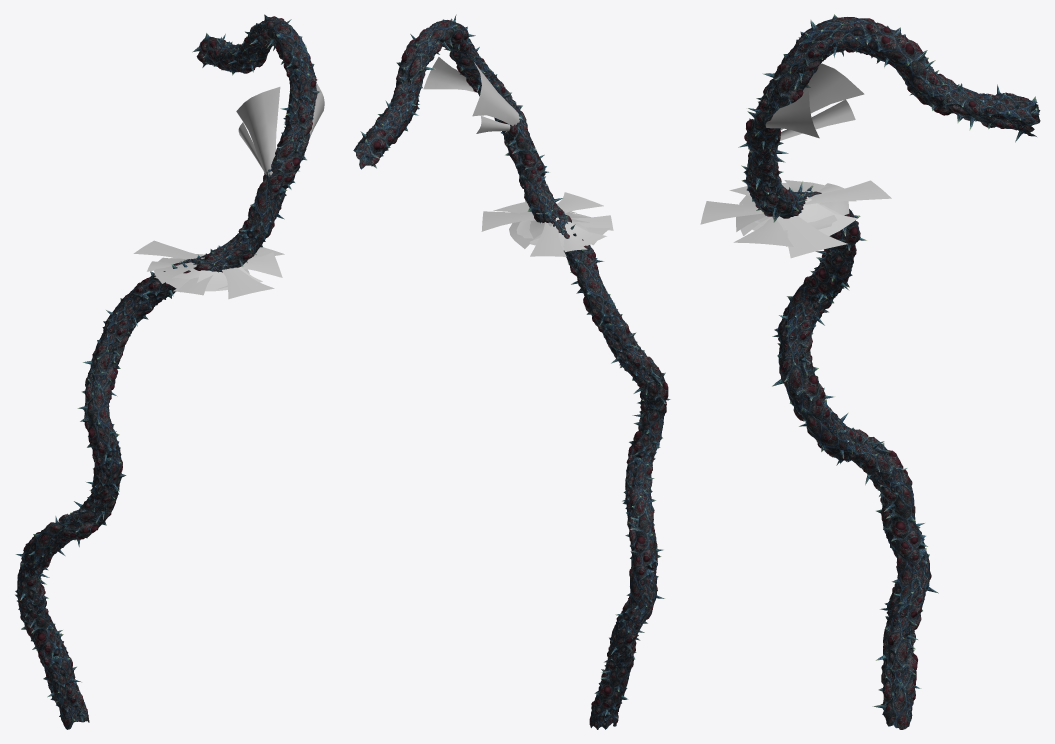
Rendered from backup.fbx.
The picture shows the model from 3 angles, left to right: view 1: azimuth 30°, elevation 25°; view 2: azimuth 150°, elevation 25°; view 3: azimuth 270°, elevation 25°; orthographic projection. The views are drawn at different scales.
Visible parts, largest first — view 1: LODGroup_1_MainMesh_2_SubMesh_2, LODGroup_1_MainMesh_2_SubMesh_1, LODGroup_1_MainMesh_1_SubMesh_1; view 2: LODGroup_1_MainMesh_2_SubMesh_1, LODGroup_1_MainMesh_2_SubMesh_2, LODGroup_1_MainMesh_1_SubMesh_1; view 3: LODGroup_1_MainMesh_2_SubMesh_1, LODGroup_1_MainMesh_2_SubMesh_2, LODGroup_1_MainMesh_1_SubMesh_1.
Part boxes in pixels (bbox=[...]): LODGroup_1_MainMesh_2_SubMesh_2: bbox=[15, 27, 317, 729]; LODGroup_1_MainMesh_2_SubMesh_1: bbox=[15, 14, 320, 722]; LODGroup_1_MainMesh_1_SubMesh_1: bbox=[133, 83, 324, 299]; LODGroup_1_MainMesh_2_SubMesh_1: bbox=[360, 14, 670, 729]; LODGroup_1_MainMesh_2_SubMesh_2: bbox=[353, 18, 665, 729]; LODGroup_1_MainMesh_1_SubMesh_1: bbox=[423, 57, 613, 256]; LODGroup_1_MainMesh_2_SubMesh_1: bbox=[738, 17, 1040, 729]; LODGroup_1_MainMesh_2_SubMesh_2: bbox=[741, 14, 1037, 717]; LODGroup_1_MainMesh_1_SubMesh_1: bbox=[700, 63, 891, 258].
Bounding box in the file's own units: 1598 × 3686 × 1390.
